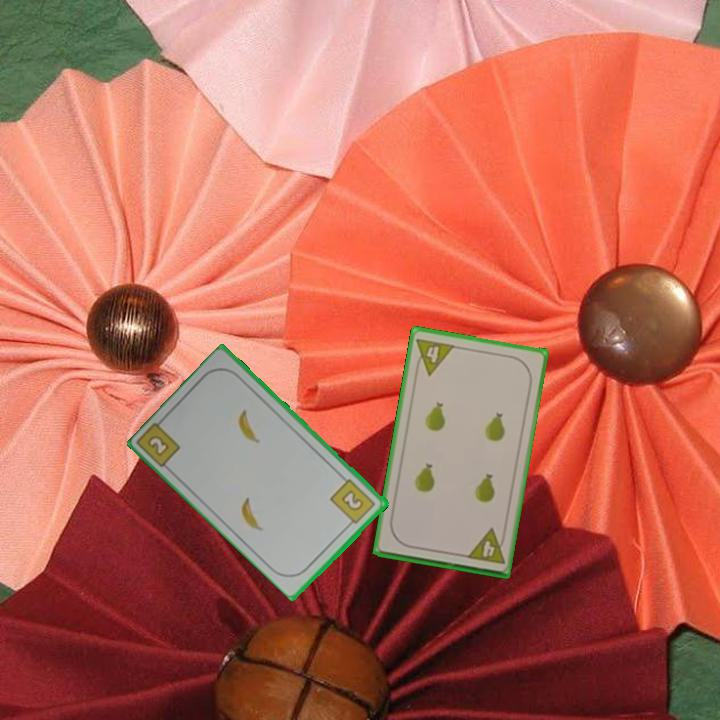2b: (327, 475, 379, 530), (144, 431, 173, 459)
4p: (411, 334, 457, 378), (463, 525, 508, 567)
